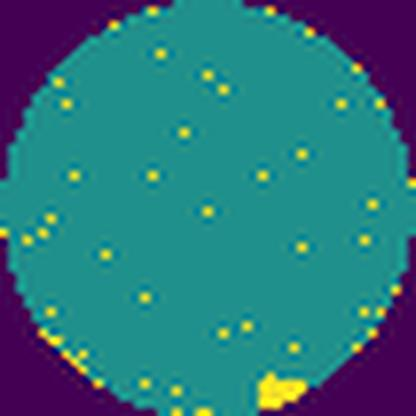Edge-Loc: (256, 372, 314, 411)
